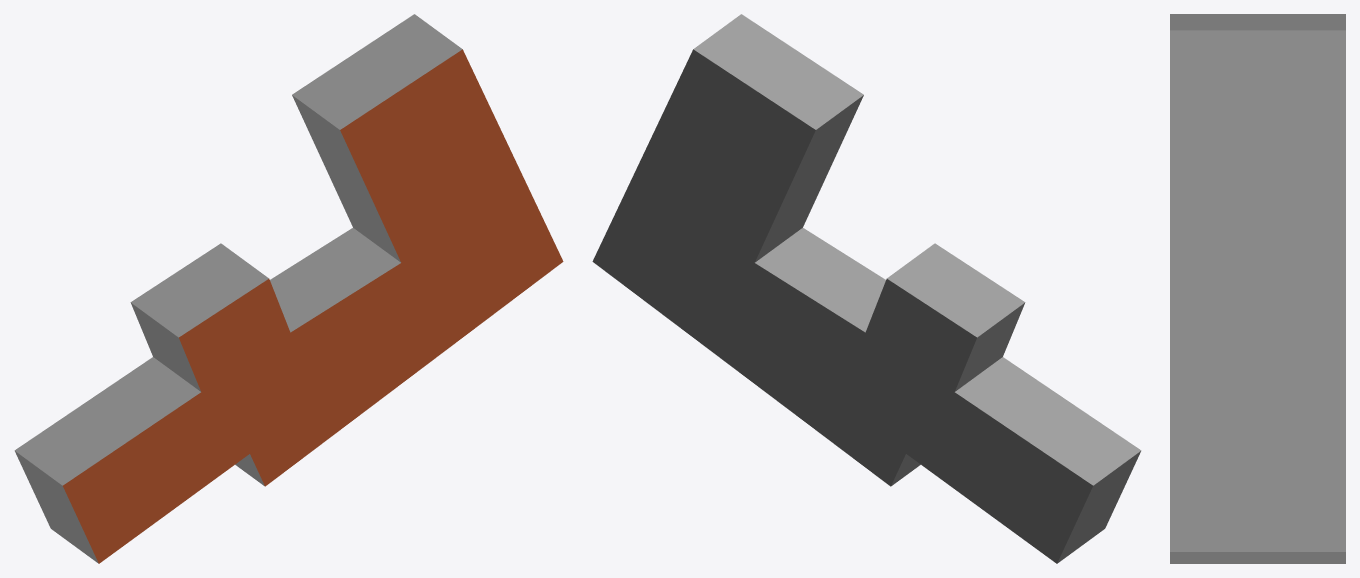
Rendered from construction_1643_assumed_A_Casa_h6m.obj.
The picture shows the model from 3 angles, left to right: view 1: azimuth 30°, elevation 25°; view 2: azimuth 150°, elevation 25°; view 3: azimuth 270°, elevation 25°; orthographic projection. The views are drawn at different scales.
Visible parts, largest first — view 1: construction_1643_assumed_A_Casa; view 2: construction_1643_assumed_A_Casa; view 3: construction_1643_assumed_A_Casa.
Boxes of the visible parts, <box> form: construction_1643_assumed_A_Casa: <box>14,14,563,563</box>; construction_1643_assumed_A_Casa: <box>592,14,1141,563</box>; construction_1643_assumed_A_Casa: <box>1170,14,1345,563</box>.
Size of the model in its own units: 35.99 by 29.25 by 6.
